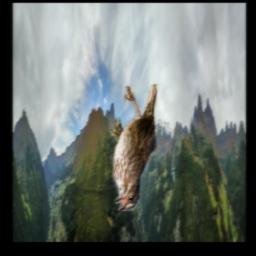Sparrow: (109, 84, 157, 212)
